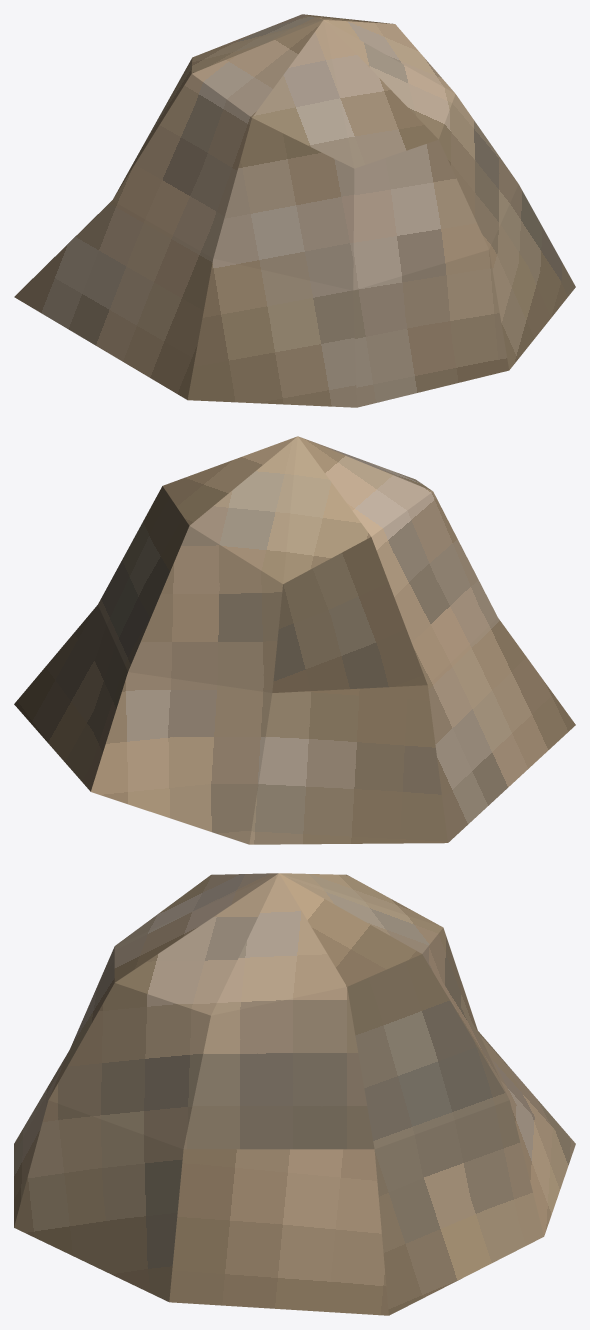
File: silicate_pile.gltf
The picture shows the model from 3 angles, top to bottom: view 1: azimuth 30°, elevation 25°; view 2: azimuth 150°, elevation 25°; view 3: azimuth 270°, elevation 25°; orthographic projection. The views are drawn at different scales.
Parts seen in each view (by area): view 1: cone; view 2: cone; view 3: cone.
Part boxes in pixels (bbox=[...]): cone: bbox=[14, 14, 575, 407]; cone: bbox=[14, 436, 575, 844]; cone: bbox=[14, 873, 575, 1315].
Bounding box in the file's own units: 0.35 × 0.2062 × 0.3312.
1 material, 1 textured.
